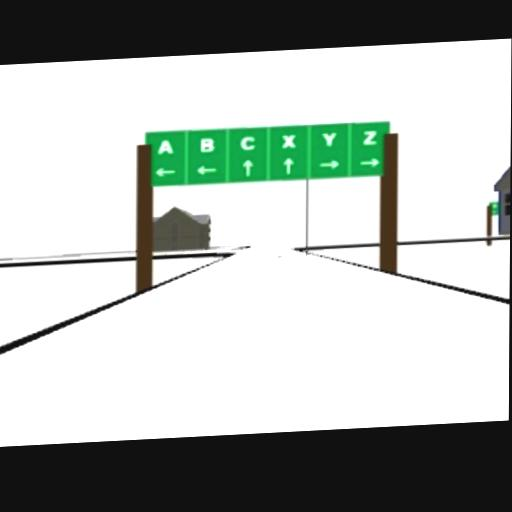A: (155, 137, 176, 160)
B: (198, 136, 217, 155)
C: (238, 134, 257, 152)
Left: (155, 165, 177, 179), (196, 164, 218, 177)
Right: (318, 157, 341, 172), (359, 156, 381, 170)
Straight: (242, 156, 255, 178), (282, 155, 295, 177)
X: (280, 133, 297, 151)
Y: (320, 131, 339, 149)
Z: (362, 129, 379, 149)
